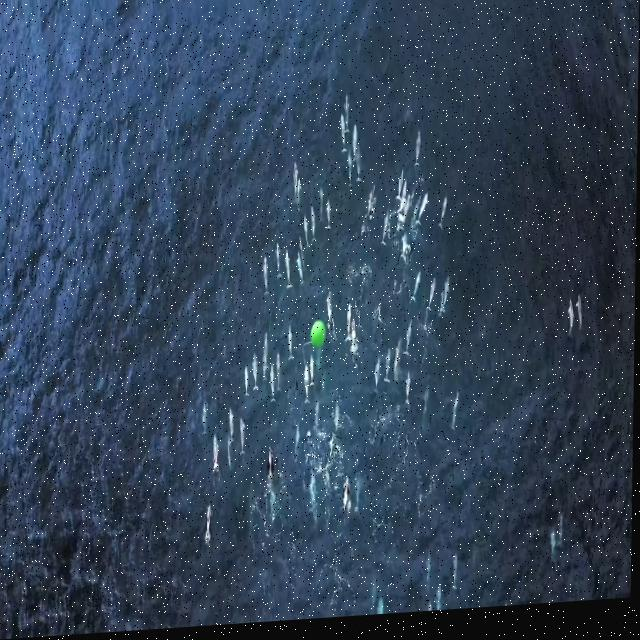balloon: (312, 326, 328, 352)
